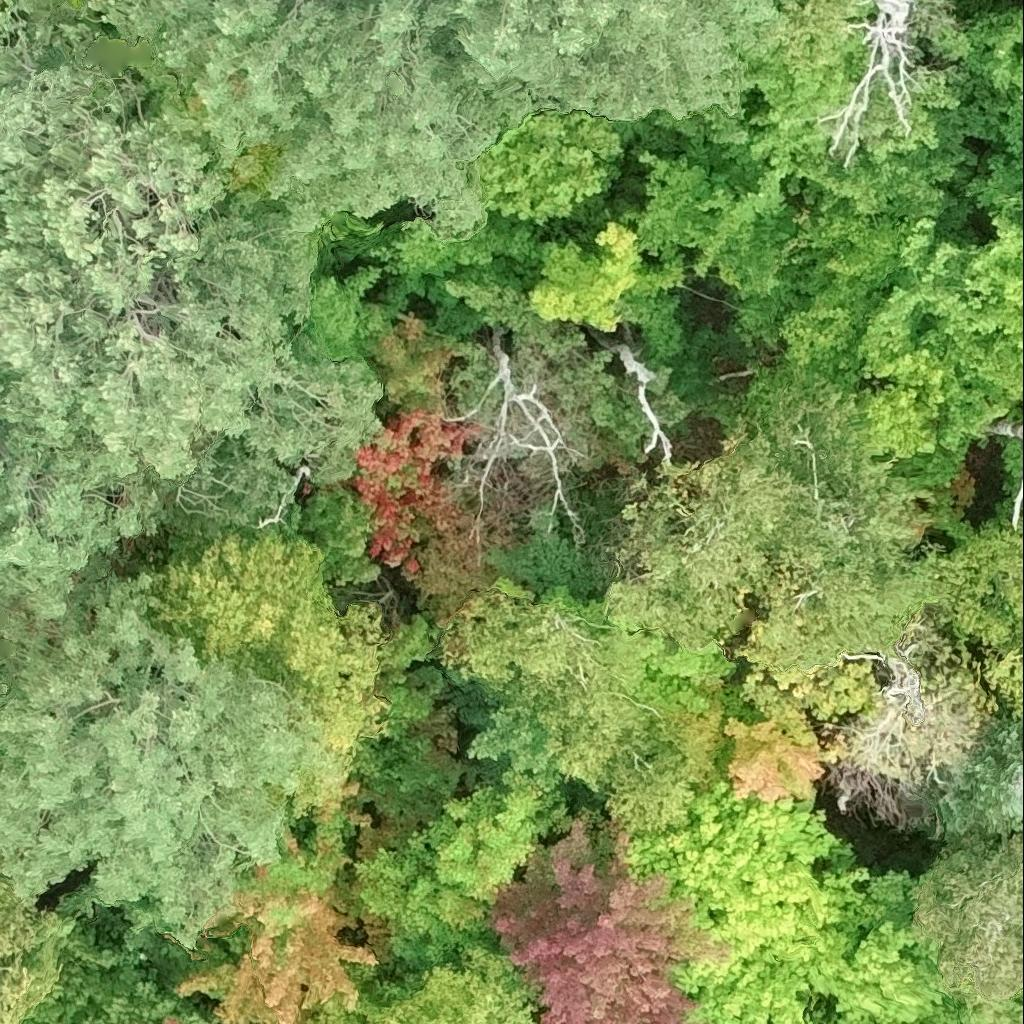crown: (0, 0, 383, 515), (615, 144, 1023, 531), (0, 554, 324, 948), (606, 382, 976, 674), (91, 0, 510, 238), (143, 480, 432, 802), (636, 0, 1005, 217), (438, 586, 726, 837), (177, 777, 399, 1023), (372, 106, 639, 308), (489, 812, 735, 1023), (740, 621, 999, 812), (376, 0, 778, 123), (353, 775, 570, 960), (440, 325, 586, 543), (0, 448, 160, 613), (348, 666, 480, 859), (912, 830, 1023, 1023), (526, 224, 685, 355), (935, 499, 1023, 718), (930, 5, 1023, 210), (315, 944, 539, 1023), (816, 0, 920, 162), (0, 869, 77, 1013), (941, 718, 1023, 838), (727, 716, 840, 802), (615, 344, 670, 463), (0, 926, 37, 1023), (985, 422, 1023, 443), (1012, 478, 1023, 530), (1010, 989, 1023, 1012), (1023, 858, 1023, 859), (1023, 500, 1023, 500)
